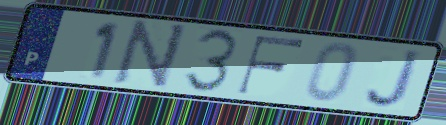0: (301, 41, 361, 106)
1: (89, 19, 121, 81)
3: (180, 26, 240, 96)
F: (234, 34, 308, 97)
J: (363, 48, 425, 112)
N: (109, 18, 191, 93)
